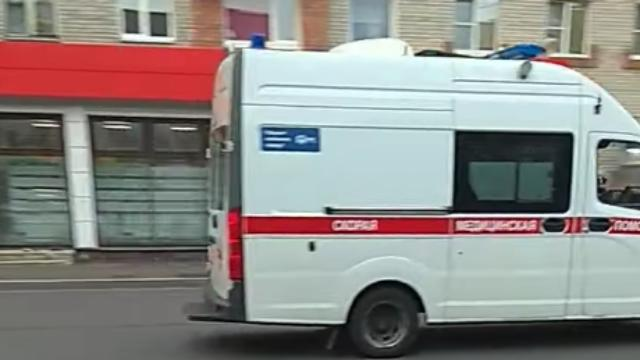ambulance: (184, 32, 640, 359)
